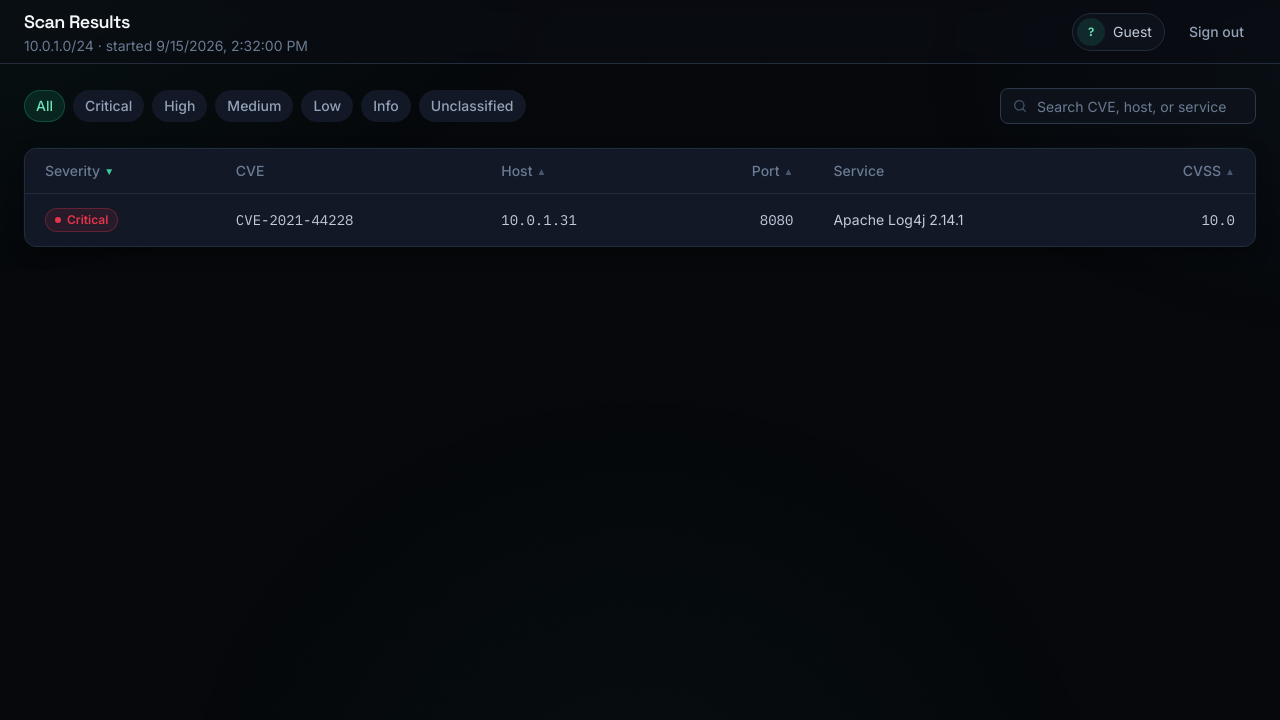
Test: ScanResults › shows real catalog matches and reference links when present
The width and height of the screenshot is (1280, 720).
Later steps or results of the test are not shown.
Click the text "CVE-2021-44228" at (295, 220), box top-left (236, 211), bottom-right (353, 229)
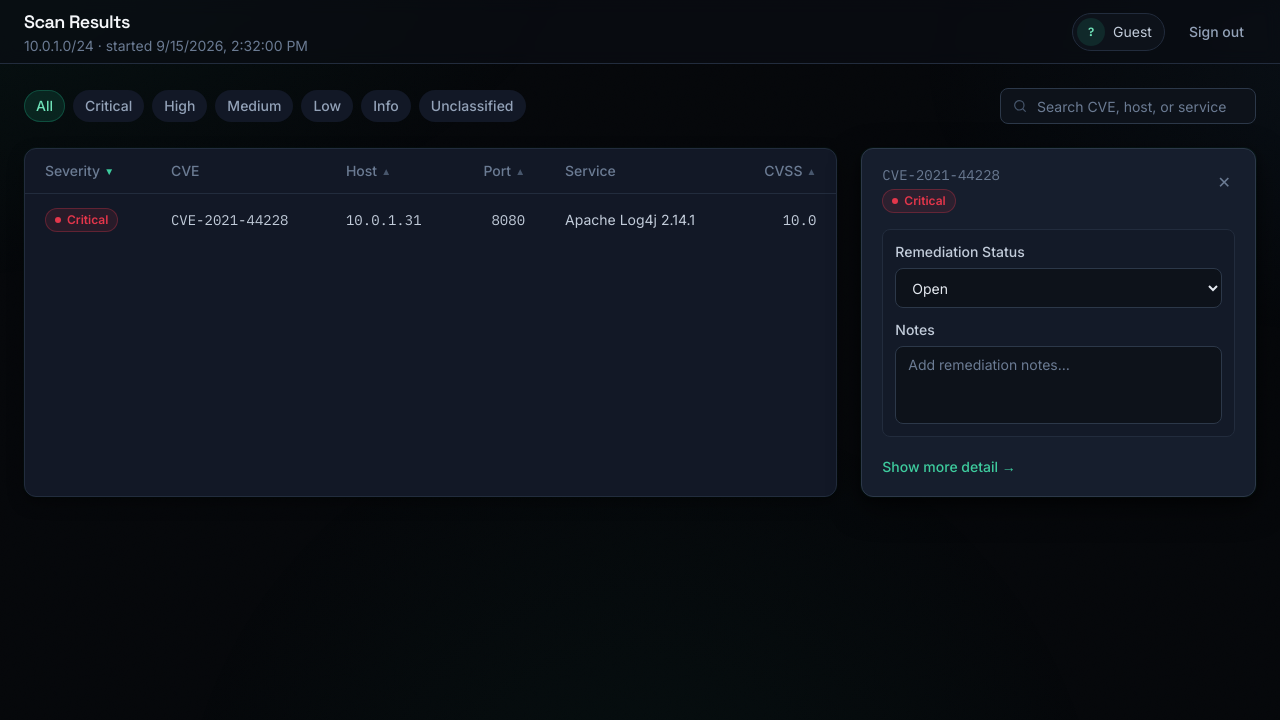
Click the button "Show more detail →" at (949, 467), box top-left (882, 457), bottom-right (1016, 477)
(page scrolled)
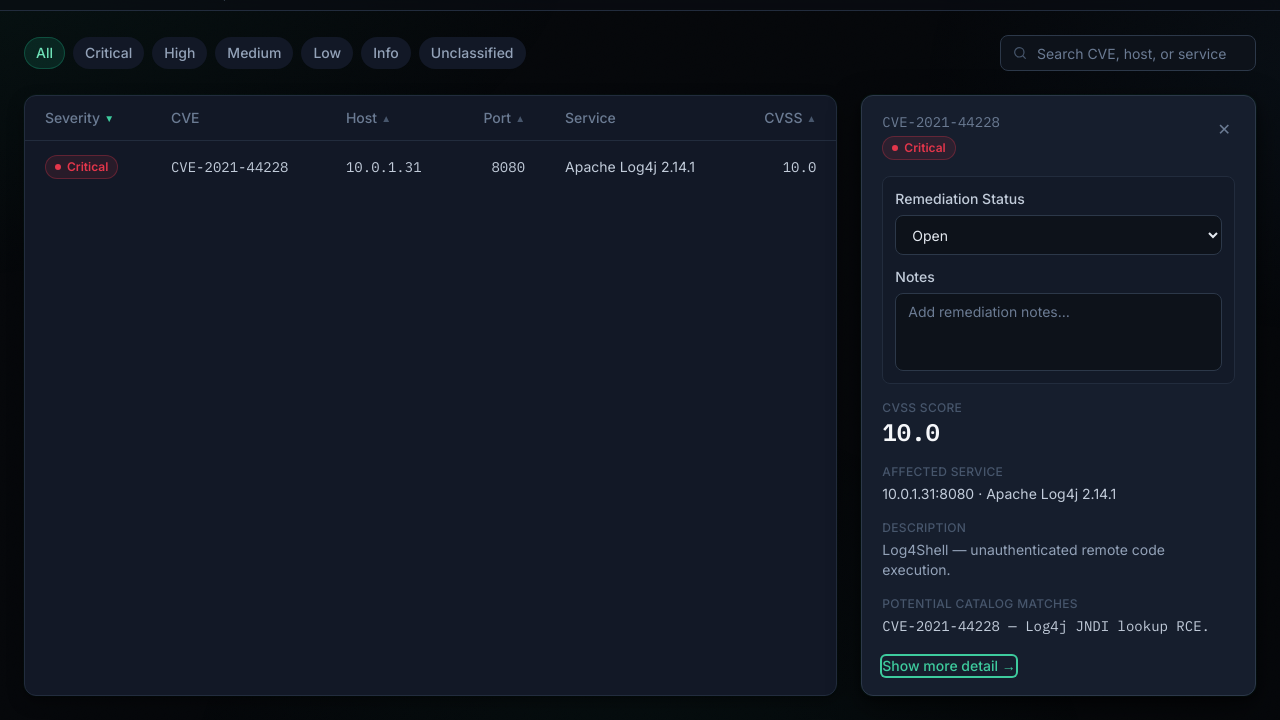
expect the list item "CVE-2021-44228 — Log4j JNDI lookup RCE." is shown: met, box top-left (882, 616), bottom-right (1235, 636)
